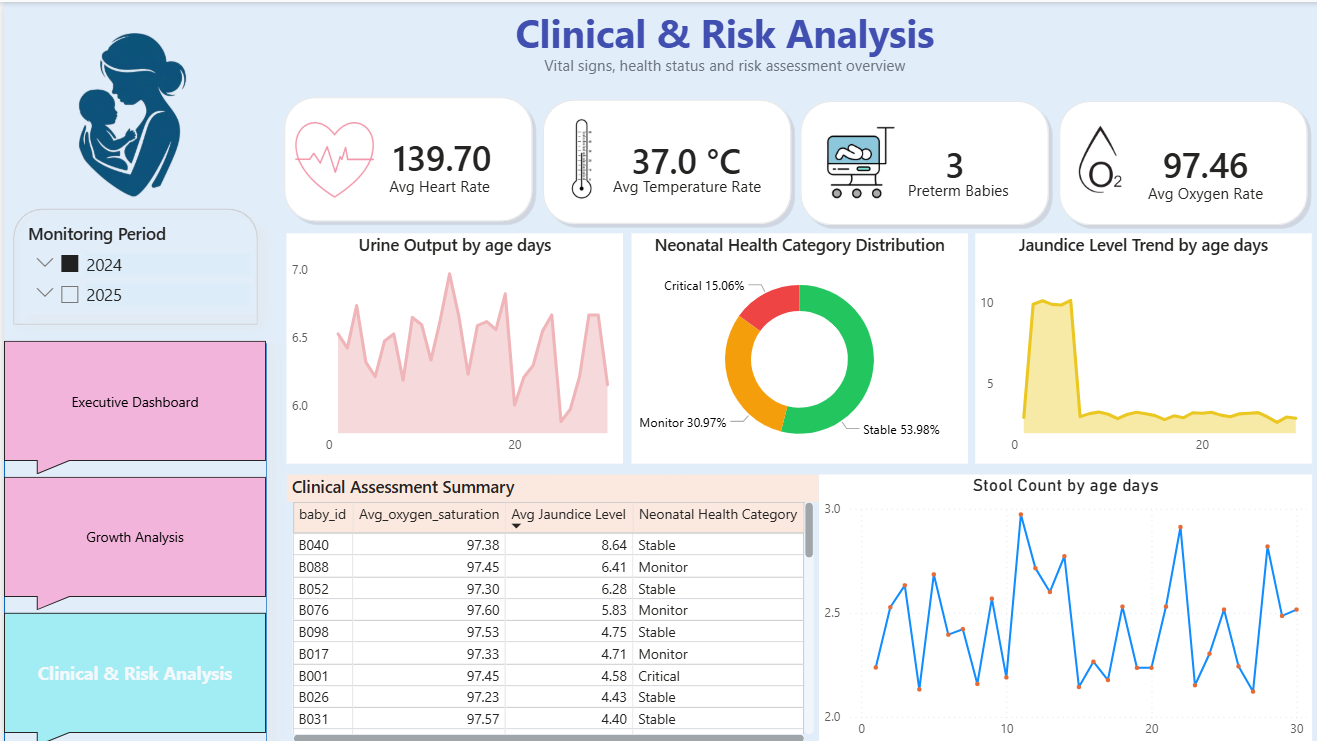

The dashboard page shown, as its layout file describes it:
{"tool":"powerbi","page":{"name":"Clinical & Risk Analysis","canvas":[1280,720],"ordinal":2},"visuals":[{"type":"shape","box":[0,190.4,253.9,129.8],"z":0},{"type":"donutChart","title":"Neonatal Health Category Distribution","fields":{"Category":["Fact_neonatal_data.Neonate_Health_Category"],"Y":["Calculate_table.Total_Records"]},"box":[606,223.6,324.6,222.2],"z":1000},{"type":"shape","box":[0,328.9,253.9,391],"z":2000},{"type":"pageNavigator","box":[0,327.5,253.9,392.4],"z":3000},{"type":"textbox","box":[488.6,0,456,62.7],"z":4000},{"type":"textbox","box":[516.4,45.8,401.7,32.6],"z":5000},{"type":"shape","box":[265.5,86.6,249.6,129.8],"z":6000},{"type":"cardVisual","fields":{"Data":["Calculate_table.Avg_heart_rate"]},"box":[346.3,103.9,163,88],"z":7000},{"type":"textbox","box":[366.5,163,137.1,39],"z":8000},{"type":"image","box":[271.2,115.4,95.2,79.4],"z":9000},{"type":"shape","box":[515.1,89.5,249.6,129.8],"z":10000},{"type":"cardVisual","fields":{"Data":["Calculate_table.Average_Temperature_Display"]},"box":[577.1,115.4,167.4,70.7],"z":11000},{"type":"textbox","box":[582.9,163,154.4,33.2],"z":12000},{"type":"image","box":[771.9,103.9,95.2,64.9],"z":13000},{"type":"shape","box":[763.2,90.9,249.6,129.8],"z":14000},{"type":"cardVisual","fields":{"Data":["Calculate_table.Preterm_Babies"]},"box":[880.1,116.9,121.2,75],"z":15000},{"type":"textbox","box":[867.1,165.9,145.7,31.7],"z":16000},{"type":"image","box":[509.3,111.1,96.7,80.8],"z":17000},{"type":"shape","box":[1012.8,90.9,249.6,129.8],"z":18000},{"type":"cardVisual","fields":{"Data":["Calculate_table.Avg_oxygen_saturation"]},"box":[1089.3,109.6,152.9,90.9],"z":19000},{"type":"textbox","box":[1099.4,168.8,167.4,31.7],"z":20000},{"type":"image","box":[1015.7,105.3,83.7,93.8],"z":21000},{"type":"image","box":[786.3,112.5,80.8,85.1],"z":22000},{"type":"areaChart","title":"Jaundice Level  Trend by age days","fields":{"Category":["Fact_neonatal_data.age_days"],"Y":["Calculate_table.Avg Jaundice Level"]},"box":[937.8,223.6,324.6,222.2],"z":23000},{"type":"lineChart","title":"Stool Count  by age days","fields":{"Category":["Fact_neonatal_data.age_days"],"Y":["Calculate_table.Average Stool Count"]},"box":[786.3,455.9,476.1,264],"z":24000},{"type":"areaChart","title":"Urine Output by age days","fields":{"Category":["Fact_neonatal_data.age_days"],"Y":["Calculate_table.Avg Urine Output"]},"box":[272.7,223.6,325,222.2],"z":25000},{"type":"image","box":[0,30.2,243.7,160.5],"z":26000},{"type":"slicer","title":"Monitoring Period","fields":{"Values":["Dim_Calender_tbl.date.Variation.Date Hierarchy.Year","Dim_Calender_tbl.date.Variation.Date Hierarchy.Month"]},"box":[18.1,212,224.7,88.8],"z":27000},{"type":"tableEx","title":"Clinical Assessment Summary","fields":{"Values":["Dim_Baby_Profile_tbl.baby_id","Calculate_table.Avg_oxygen_saturation","Calculate_table.Avg Jaundice Level","Calculate_table.Neo Health Status"]},"box":[272.7,455.9,513.6,264],"z":28000}]}

Visuals, with their boxes in screenshot pixels (x1, y1, x2, y2), scaled from the page's 1280x720 canvas onto the 1317x741 screenshot:
shape: l=0, t=196, r=261, b=330
"Neonatal Health Category Distribution" donutChart: l=624, t=230, r=958, b=459
shape: l=0, t=338, r=261, b=740
pageNavigator: l=0, t=337, r=261, b=740
textbox: l=503, t=0, r=972, b=65
textbox: l=531, t=47, r=945, b=81
shape: l=273, t=89, r=530, b=223
cardVisual - Calculate_table.Avg_heart_rate: l=356, t=107, r=524, b=197
textbox: l=377, t=168, r=518, b=208
image: l=279, t=119, r=377, b=200
shape: l=530, t=92, r=787, b=226
cardVisual - Calculate_table.Average_Temperature_Display: l=594, t=119, r=766, b=192
textbox: l=600, t=168, r=759, b=202
image: l=794, t=107, r=892, b=174
shape: l=785, t=94, r=1042, b=227
cardVisual - Calculate_table.Preterm_Babies: l=906, t=120, r=1030, b=197
textbox: l=892, t=171, r=1042, b=203
image: l=524, t=114, r=624, b=197
shape: l=1042, t=94, r=1299, b=227
cardVisual - Calculate_table.Avg_oxygen_saturation: l=1121, t=113, r=1278, b=206
textbox: l=1131, t=174, r=1303, b=206
image: l=1045, t=108, r=1131, b=205
image: l=809, t=116, r=892, b=203
"Jaundice Level  Trend by age days" areaChart: l=965, t=230, r=1299, b=459
"Stool Count  by age days" lineChart: l=809, t=469, r=1299, b=740
"Urine Output by age days" areaChart: l=281, t=230, r=615, b=459
image: l=0, t=31, r=251, b=196
"Monitoring Period" slicer: l=19, t=218, r=250, b=310
"Clinical Assessment Summary" tableEx: l=281, t=469, r=809, b=740
